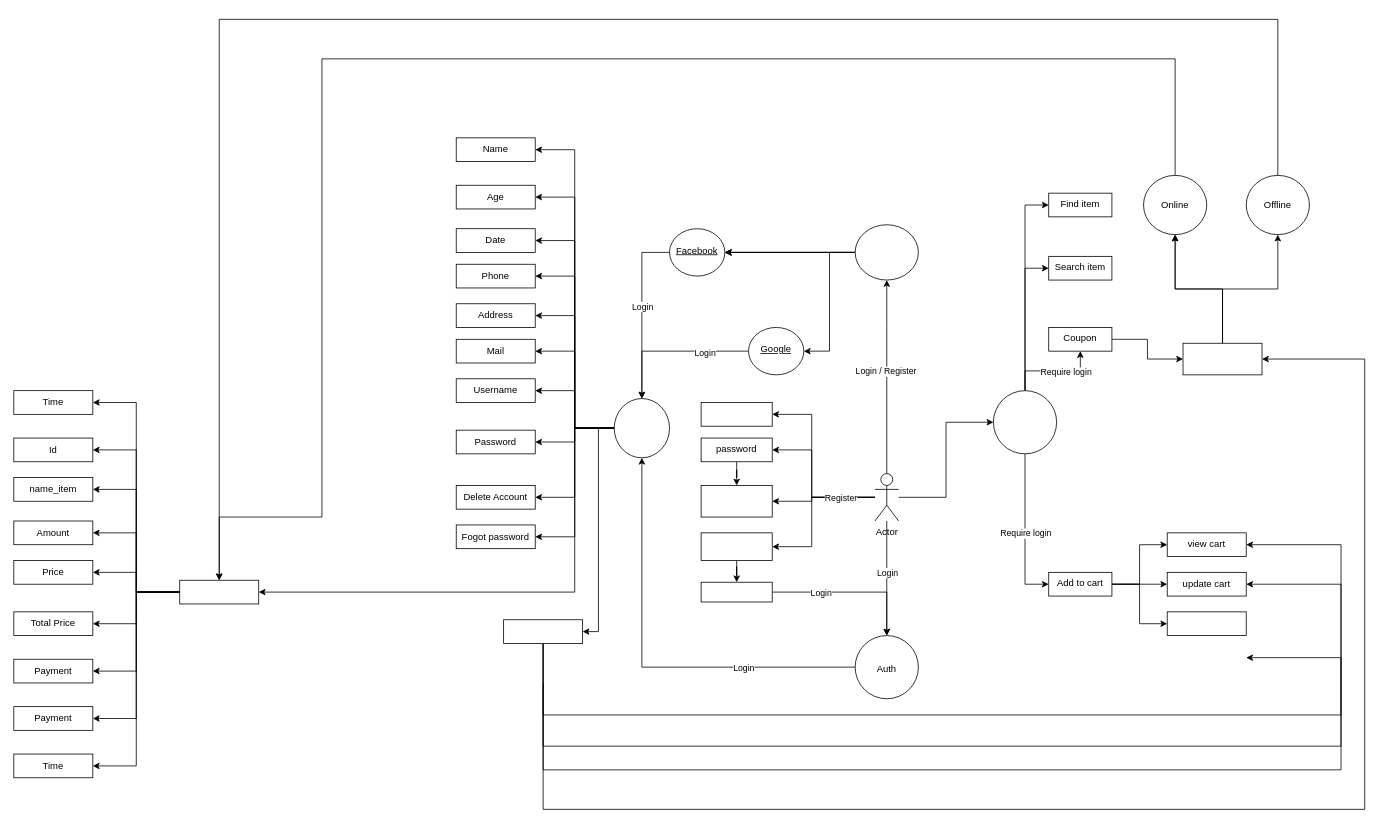
Some shapes in this 1385 by 830 pixel diagram are drawn without their labels. Here are the shapes that lost their labels. From the top down, the box of each, then its label:
(854, 224, 918, 280): Outh
(1182, 342, 1262, 375): paycart
(613, 398, 670, 458): Settings
(700, 402, 772, 426): User_name
(993, 390, 1057, 454): Shop
(700, 485, 772, 517): confirm password
(700, 532, 772, 561): phone number
(179, 579, 259, 604): History
(700, 581, 772, 602): code
(503, 619, 583, 643): cart
(1166, 611, 1246, 636): remove cart
